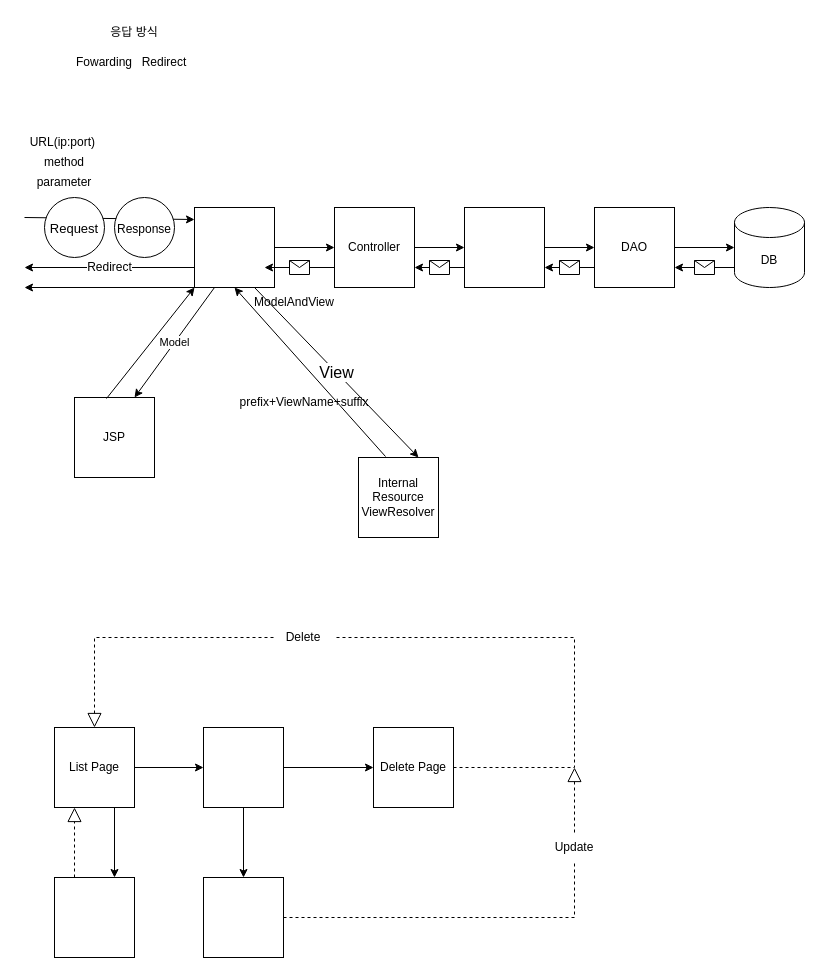
The diagram is 822 pixels wide and 975 high, and some of its shapes have lost their labels. The shapes that lost their labels are listed below. From the top down, each one's box as (x1, y1, x2, y2) in pixels, then its label:
(194, 206, 274, 288): Dispatcher Servlet
(464, 206, 544, 288): Service
(202, 726, 284, 808): Detail Page
(54, 876, 134, 958): Add Page
(202, 876, 284, 958): Update Page
